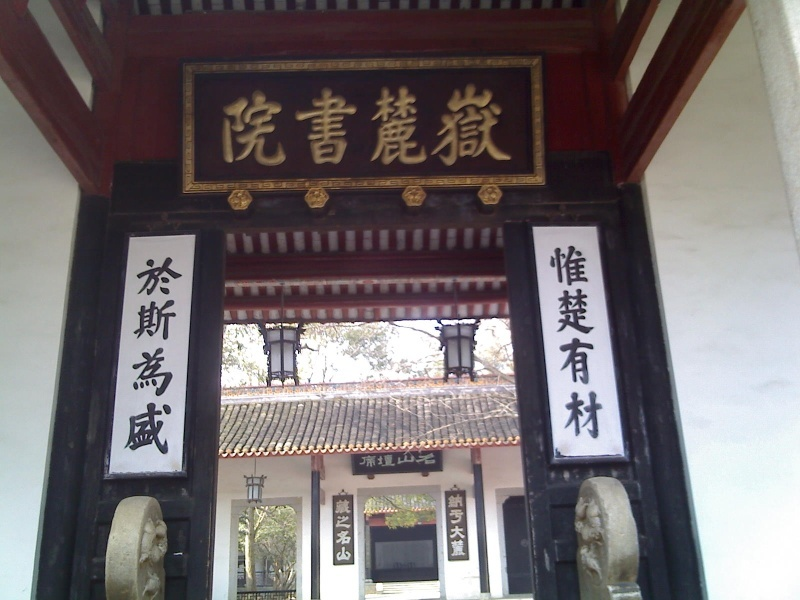text: (561, 239, 576, 443), (577, 239, 592, 443), (145, 255, 160, 456), (161, 255, 176, 456), (593, 239, 607, 443), (547, 239, 560, 443), (177, 255, 185, 456), (225, 86, 240, 170), (241, 86, 256, 170), (257, 86, 272, 170), (273, 86, 288, 170), (289, 86, 304, 170), (305, 86, 320, 170), (321, 86, 336, 170), (337, 86, 352, 170), (353, 86, 368, 170), (369, 86, 384, 170), (385, 86, 400, 170), (401, 86, 416, 170), (417, 86, 432, 170), (433, 86, 448, 170), (449, 86, 464, 170), (465, 86, 480, 170), (481, 86, 496, 170), (497, 86, 512, 170), (139, 255, 144, 456), (337, 498, 352, 564), (449, 494, 464, 557), (369, 451, 384, 469), (385, 451, 400, 469), (401, 451, 416, 469), (417, 451, 432, 469), (465, 494, 468, 557), (359, 451, 368, 469), (223, 86, 224, 170), (447, 494, 448, 557), (433, 451, 436, 469)
